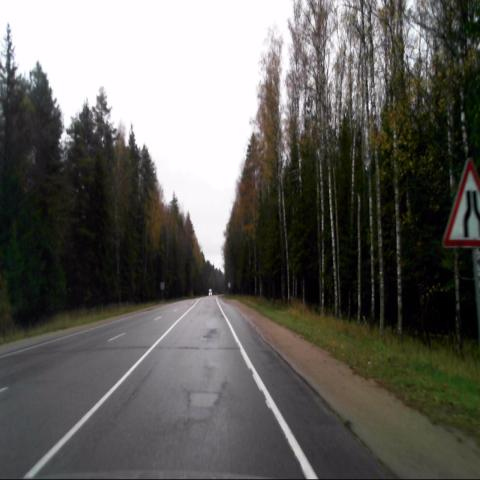1_20: (442, 158, 480, 249)
